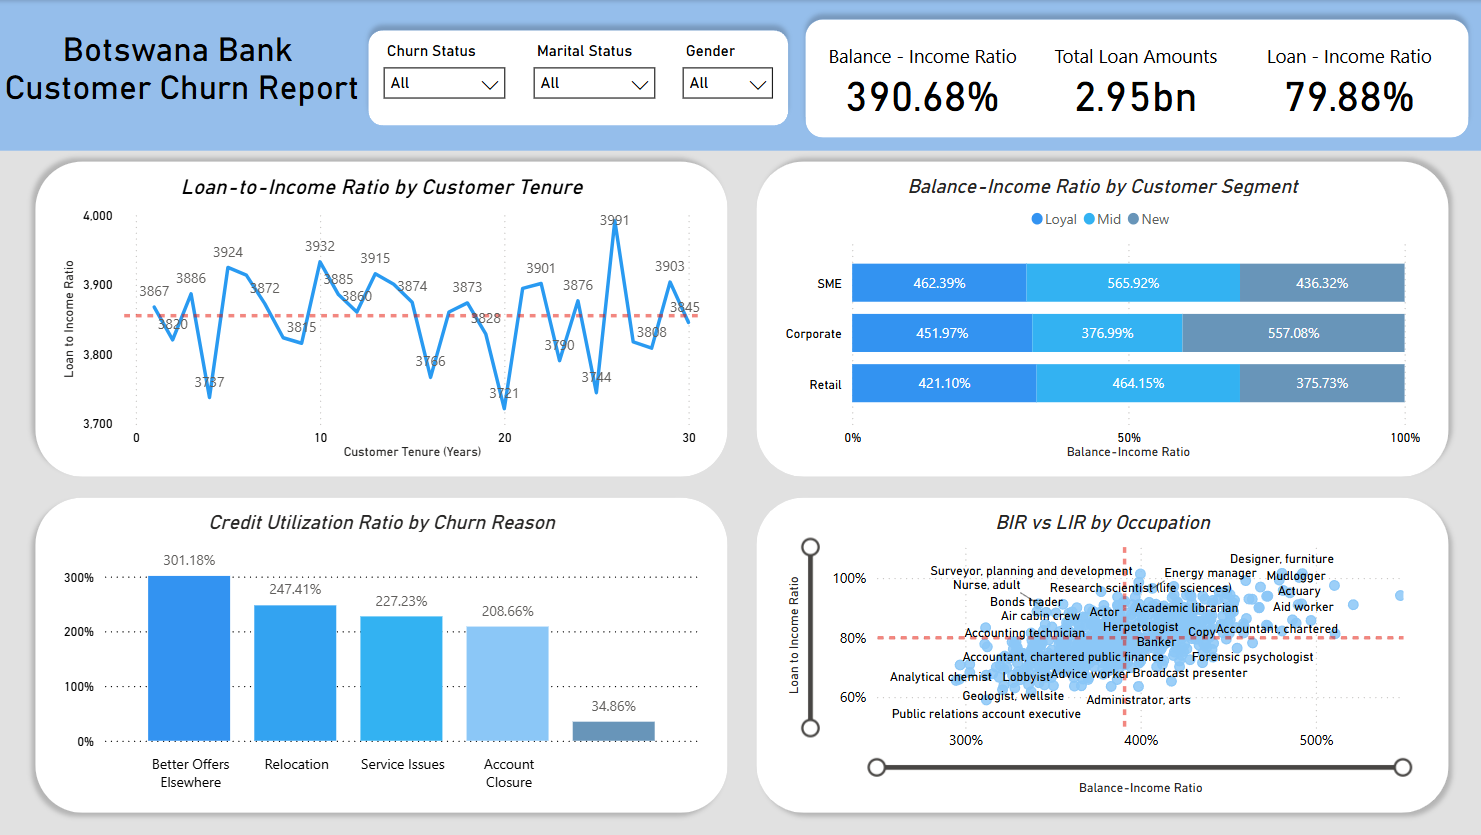

The page's visual inventory and layout, read from the dashboard file:
{"tool":"powerbi","page":{"name":"Page 1","canvas":[1280,720],"ordinal":0},"visuals":[{"type":"shape","box":[686.6,7.8,590,120],"z":0,"group":"g5"},{"type":"shape","box":[22.4,420.1,615,290],"z":0,"group":"g3"},{"type":"shape","box":[0,0,1280,130.2],"z":1000},{"type":"cardVisual","fields":{"Data":["Avg(botswana bank customer churn.Balance-Income Ratio)","Sum(botswana bank customer churn.Outstanding Loans)","Avg(botswana bank customer churn.Loan to Income Ratio)"]},"box":[702.1,25.1,558.1,86.3],"z":1000,"group":"g5"},{"type":"shape","box":[644.3,130.2,615,290],"z":1000,"group":"g1"},{"type":"shape","box":[309.6,17.3,380.4,100.1],"z":2000},{"type":"shape","box":[644.3,420.1,615,290],"z":2000,"group":"g2"},{"type":"textbox","box":[0,20.7,315.7,92.3],"z":3000},{"type":"shape","box":[22.4,130.2,615,290],"z":3000,"group":"g4"},{"type":"slicer","fields":{"Values":["botswana bank customer churn.Gender"]},"box":[579.6,31.1,98.3,63],"z":4000},{"type":"clusteredColumnChart","title":"Credit Utilization Ratio by Churn Reason","fields":{"Category":["botswana bank customer churn.Churn Reason"],"Y":["Avg(botswana bank customer churn.Credit Utilization Ratio)"]},"box":[50,439.9,560,250.1],"z":4000,"group":"g3"},{"type":"group","id":"g1","title":"Group 1","box":[644.3,130.2,615,289.8],"z":5000},{"type":"lineChart","title":"Loan-to-Income Ratio by Customer Tenure","fields":{"Y":["CountNonNull(botswana bank customer churn.Loan to Income Ratio)"],"Category":["botswana bank customer churn.Customer Tenure"]},"box":[50,150,560,250.1],"z":5000,"group":"g4"},{"type":"slicer","fields":{"Values":["botswana bank customer churn.Marital Status"]},"box":[450.7,31.1,125.1,63],"z":6000},{"type":"group","id":"g2","title":"Group 2","box":[644.3,420.1,615,289.8],"z":7000},{"type":"group","id":"g3","title":"Group 3","box":[22.4,420.1,615,289.8],"z":8000},{"type":"slicer","fields":{"Values":["botswana bank customer churn.Churn Status"]},"box":[321.7,31.1,125.1,63],"z":9000},{"type":"group","id":"g4","title":"Group 4","box":[22.4,130.2,615,289.8],"z":10000},{"type":"scatterChart","title":"BIR vs LIR by Occupation","fields":{"X":["Avg(botswana bank customer churn.Balance-Income Ratio)"],"Y":["Avg(botswana bank customer churn.Loan to Income Ratio)"],"Category":["botswana bank customer churn.Occupation"]},"box":[671.9,439.9,559.8,250.1],"z":10000,"group":"g2"},{"type":"group","id":"g5","title":"Group 6","box":[686.6,7.8,590,120],"z":11000},{"type":"hundredPercentStackedBarChart","title":"Balance-Income Ratio by Customer Segment ","fields":{"Category":["botswana bank customer churn.Customer Segment"],"Y":["Avg(botswana bank customer churn.Balance-Income Ratio)"],"Series":["botswana bank customer churn.Tenure Category"]},"box":[671.9,150,559.8,250.1],"z":11000,"group":"g1"}]}

Visuals, with their boxes in screenshot pixels (x1, y1, x2, y2), scaled from the page's 1280x720 canvas onto the 1481x835 screenshot:
shape: Rect(794, 9, 1477, 148)
shape: Rect(26, 487, 737, 824)
shape: Rect(0, 0, 1480, 151)
cardVisual - Avg(botswana bank customer churn.Balance-Income Ratio) x Sum(botswana bank customer churn.Outstanding Loans): Rect(812, 29, 1458, 129)
shape: Rect(745, 151, 1457, 487)
shape: Rect(358, 20, 798, 136)
shape: Rect(745, 487, 1457, 824)
textbox: Rect(0, 24, 365, 131)
shape: Rect(26, 151, 737, 487)
slicer - botswana bank customer churn.Gender: Rect(671, 36, 784, 109)
"Credit Utilization Ratio by Churn Reason" clusteredColumnChart: Rect(58, 510, 706, 800)
"Group 1" group: Rect(745, 151, 1457, 487)
"Loan-to-Income Ratio by Customer Tenure" lineChart: Rect(58, 174, 706, 464)
slicer - botswana bank customer churn.Marital Status: Rect(521, 36, 666, 109)
"Group 2" group: Rect(745, 487, 1457, 823)
"Group 3" group: Rect(26, 487, 737, 823)
slicer - botswana bank customer churn.Churn Status: Rect(372, 36, 517, 109)
"Group 4" group: Rect(26, 151, 737, 487)
"BIR vs LIR by Occupation" scatterChart: Rect(777, 510, 1425, 800)
"Group 6" group: Rect(794, 9, 1477, 148)
"Balance-Income Ratio by Customer Segment " hundredPercentStackedBarChart: Rect(777, 174, 1425, 464)
